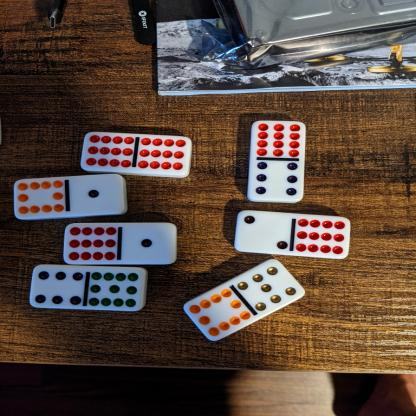pip-1: (118, 221, 177, 264), (66, 174, 125, 216)
pip-10: (182, 288, 250, 340), (13, 177, 66, 219)
pip-11: (85, 267, 146, 312)
pip-12: (292, 215, 349, 258), (64, 221, 118, 264), (80, 130, 135, 172), (134, 134, 191, 174), (249, 119, 305, 159)
pip-2: (234, 210, 292, 255)
pip-6: (246, 157, 304, 203), (30, 263, 85, 309)
pip-7: (237, 258, 304, 311)
